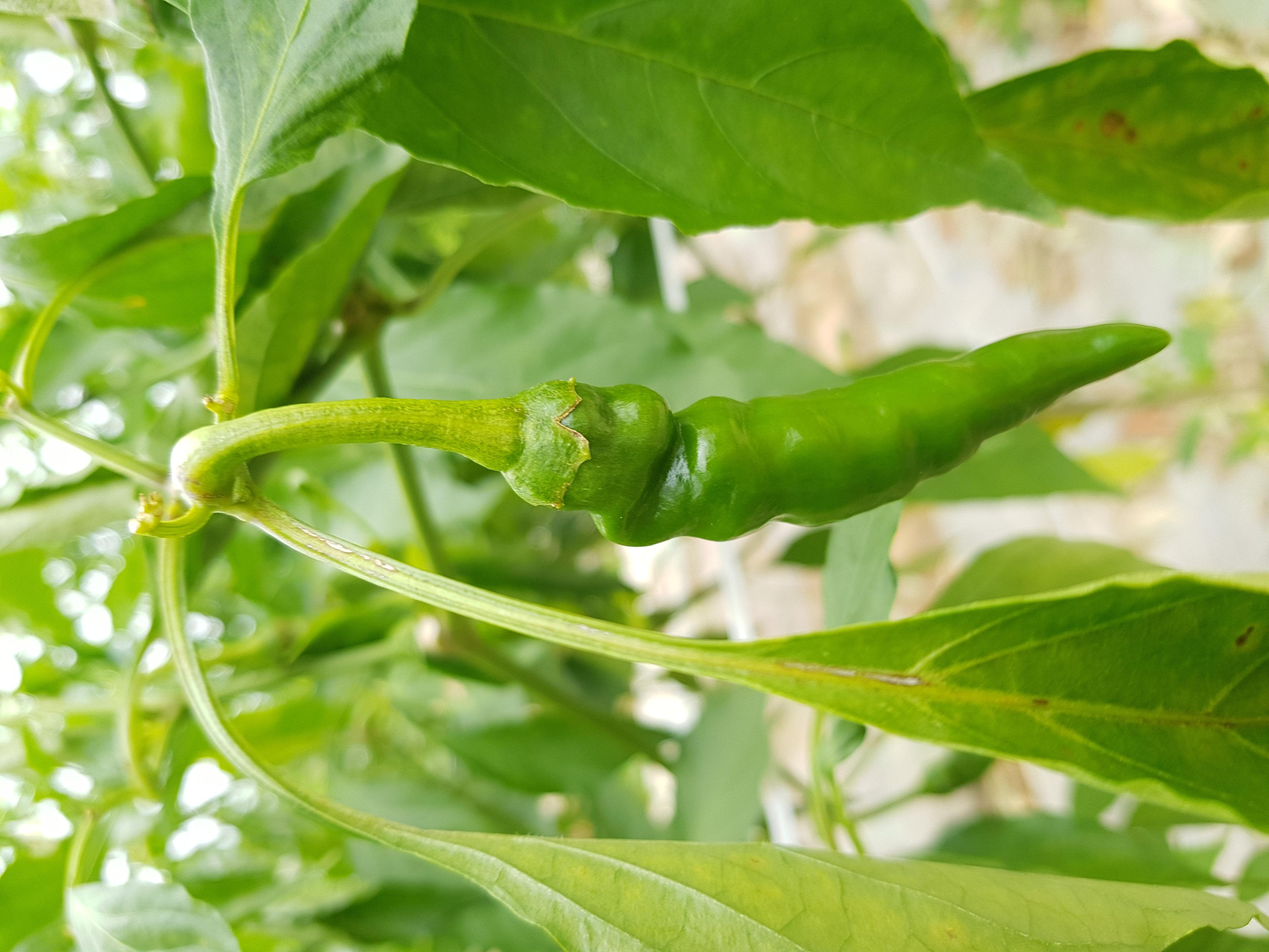Buah Cabai Sehat: (469, 318, 1174, 553)
Daun Cabai Sehat: (167, 0, 1062, 236), (678, 566, 1269, 835), (382, 833, 1269, 952)
